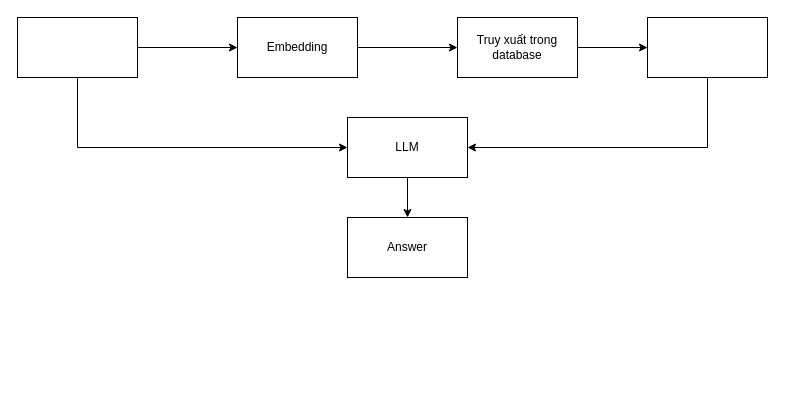
This 785x395 diagram has some shape labels left out. The shapes that lost their labels are listed below. From the top down, each one's centre as x and y in pixels, then its label:
(77,47): Question
(707,47): Lấy ra top n chunk
